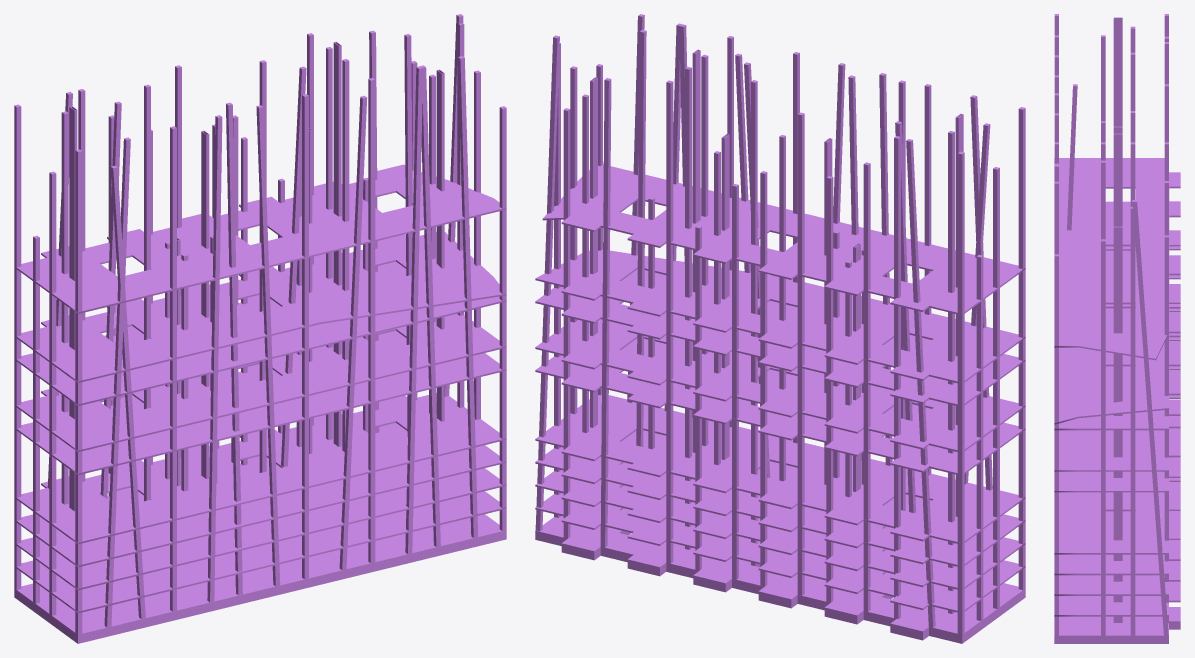
The model's file is Building_01_3.FBX.
3 views of the same model, side by side, from view 1: azimuth 30°, elevation 25°; view 2: azimuth 150°, elevation 25°; view 3: azimuth 270°, elevation 25° (orthographic). The views are drawn at different scales.
Visible parts, largest first — view 1: Building_01_3; view 2: Building_01_3; view 3: Building_01_3.
Boxes of the visible parts, x1,y1,x2,y2 form: Building_01_3: (14, 14, 506, 643); Building_01_3: (535, 14, 1025, 643); Building_01_3: (1054, 14, 1180, 643).
Bounding box in the file's own units: 58402 × 66934 × 16544.
